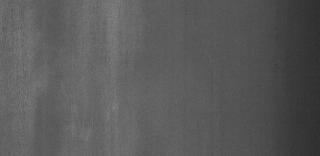silk spot: (66, 98, 132, 144)
